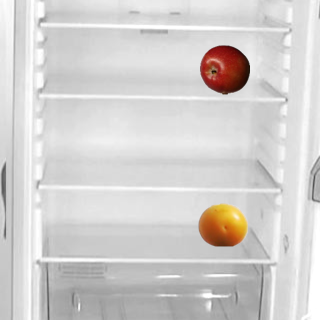Apple Braeburn: (199, 44, 249, 94)
Cherry Wax Yellow: (197, 199, 247, 249)
